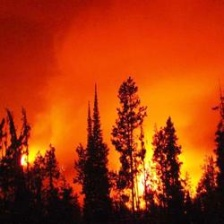fire: (21, 121, 181, 212)
